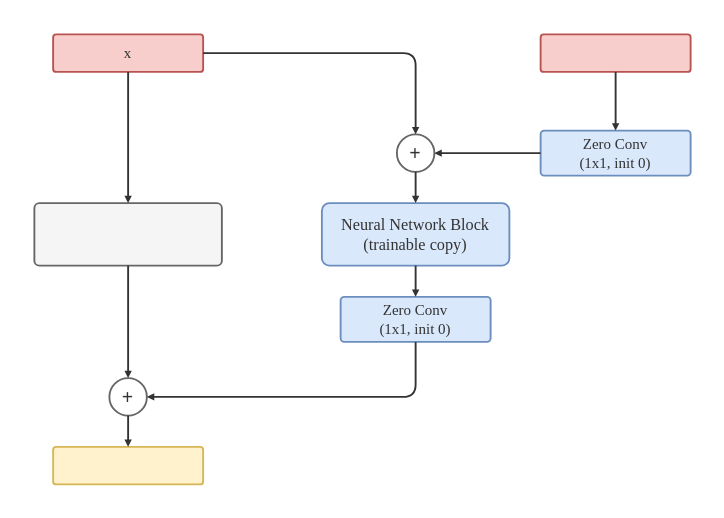
Some shapes in this 724 by 518 pixel diagram are drawn without their labels. The shapes that lost their labels are listed below. From the top down, each one's centre as x and y in pixels, then its label:
At point 615,52: "Condition c".
At point 127,234: "Neural Network Block (locked, frozen)".
At point 128,465: "y c".
